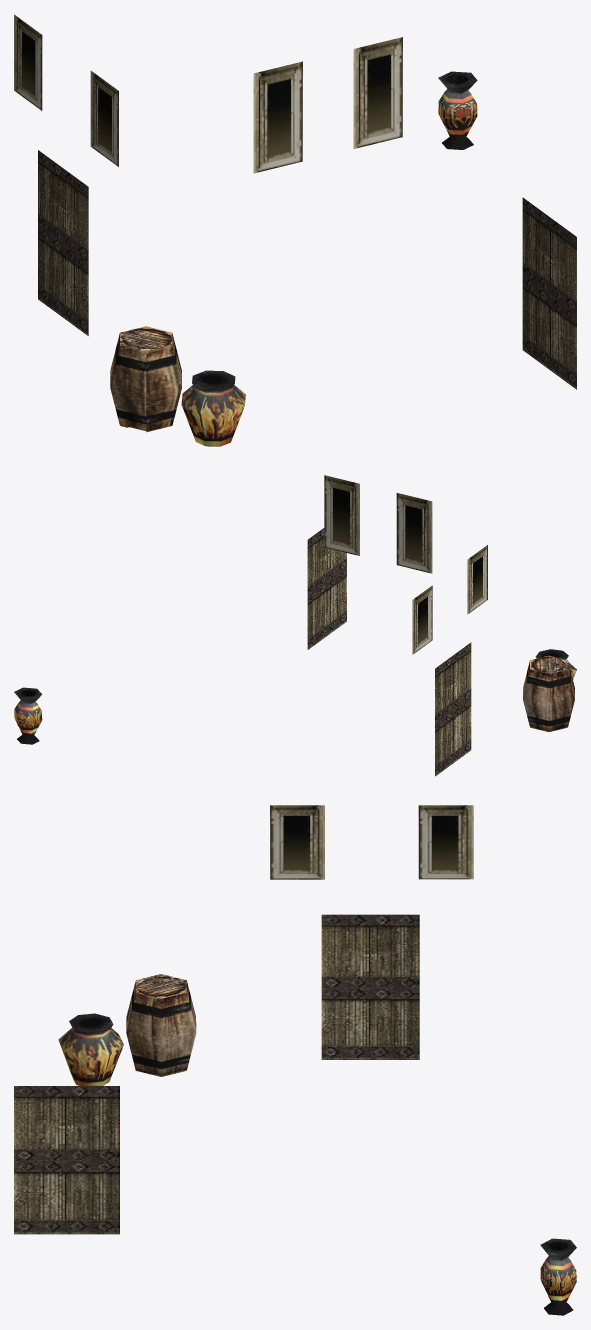
Rendered from hele_house_d_props.dae.
3 views of the same model, one above another, from view 1: azimuth 30°, elevation 25°; view 2: azimuth 150°, elevation 25°; view 3: azimuth 270°, elevation 25° (orthographic). The views are drawn at different scales.
Visible parts, largest first — view 1: Object1050; view 2: Object1050; view 3: Object1050.
Part boxes in pixels (left/top/right/bottom): Object1050: left=14, top=14, right=576, bottom=446; Object1050: left=14, top=475, right=576, bottom=776; Object1050: left=14, top=805, right=576, bottom=1315.
Bounding box in the file's own units: 13.77 × 6.83 × 12.15.
